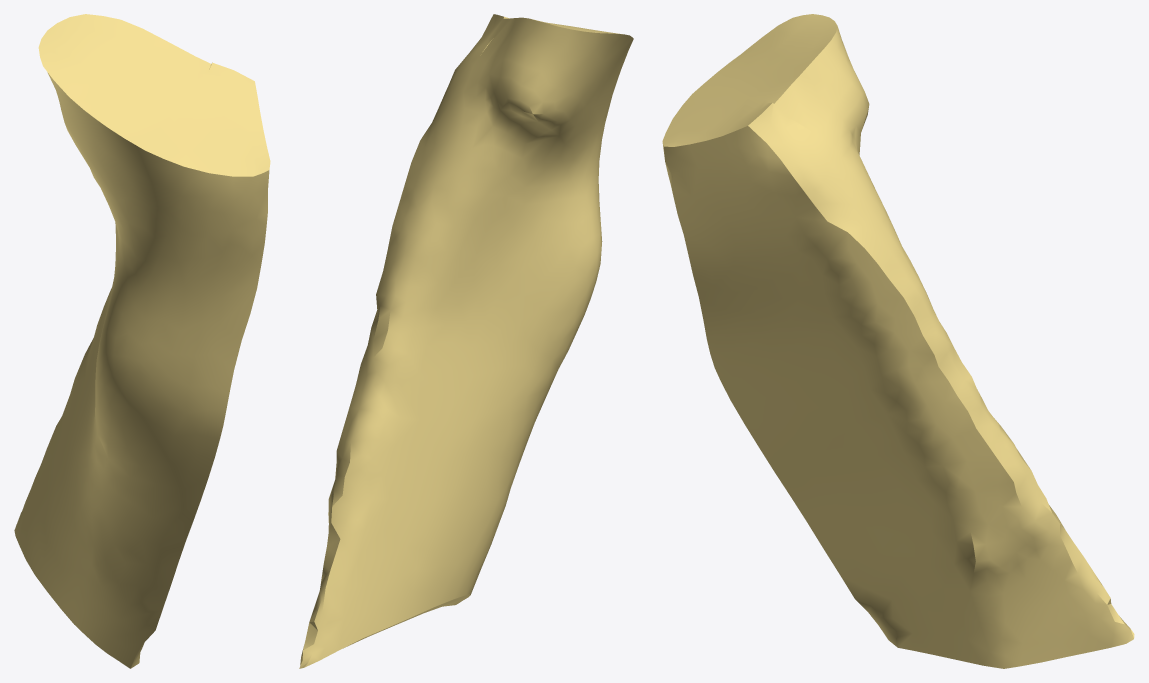
The model's file is fma73843_mm2538m.glb.
3 views of the same model, side by side, from view 1: azimuth 30°, elevation 25°; view 2: azimuth 150°, elevation 25°; view 3: azimuth 270°, elevation 25° (orthographic). The views are drawn at different scales.
Parts seen in each view (by area): view 1: FMA73843_MM2538M; view 2: FMA73843_MM2538M; view 3: FMA73843_MM2538M.
Part boxes in pixels (bbox=[...]): FMA73843_MM2538M: bbox=[14, 14, 270, 668]; FMA73843_MM2538M: bbox=[299, 14, 633, 668]; FMA73843_MM2538M: bbox=[662, 14, 1134, 668].
Bounding box in the file's own units: 0.00358 × 0.0112 × 0.00822.
